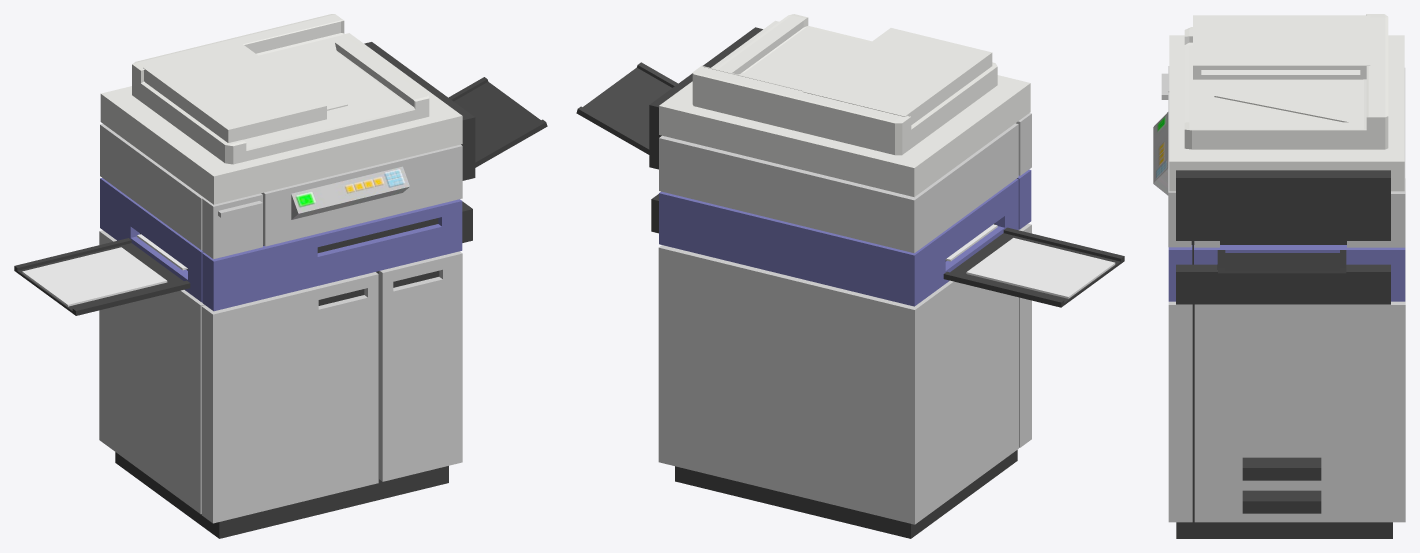
File: MGA4208A.glb
3 views of the same model, side by side, from view 1: azimuth 30°, elevation 25°; view 2: azimuth 150°, elevation 25°; view 3: azimuth 270°, elevation 25° (orthographic). The views are drawn at different scales.
Parts seen in each view (by area): view 1: Greyparts-ROOT, Duplex-ROOT, Blueparts-ROOT, Blackparts-ROOT, Box, Buttons-ROOT; view 2: Greyparts-ROOT, Duplex-ROOT, Blueparts-ROOT, Blackparts-ROOT, Box; view 3: Greyparts-ROOT, Duplex-ROOT, Blackparts-ROOT, Blueparts-ROOT, Buttons-ROOT.
Boxes of the visible parts, x1,y1,x2,y2 form: Greyparts-ROOT: [99, 124, 462, 523]; Duplex-ROOT: [100, 14, 462, 204]; Blueparts-ROOT: [100, 178, 462, 311]; Blackparts-ROOT: [14, 42, 547, 538]; Box: [22, 247, 167, 306]; Buttons-ROOT: [291, 166, 409, 219]; Greyparts-ROOT: [658, 113, 1031, 524]; Duplex-ROOT: [659, 14, 1030, 197]; Blueparts-ROOT: [659, 169, 1031, 306]; Blackparts-ROOT: [576, 27, 1124, 538]; Box: [966, 238, 1115, 298]; Greyparts-ROOT: [1161, 66, 1405, 522]; Duplex-ROOT: [1169, 14, 1404, 191]; Blackparts-ROOT: [1176, 170, 1392, 538]; Blueparts-ROOT: [1168, 245, 1405, 301]; Buttons-ROOT: [1153, 112, 1168, 195].
Bounding box in the file's own units: 49.25 × 39.81 × 21.94.
Materials: 6 (1 with a texture image).
